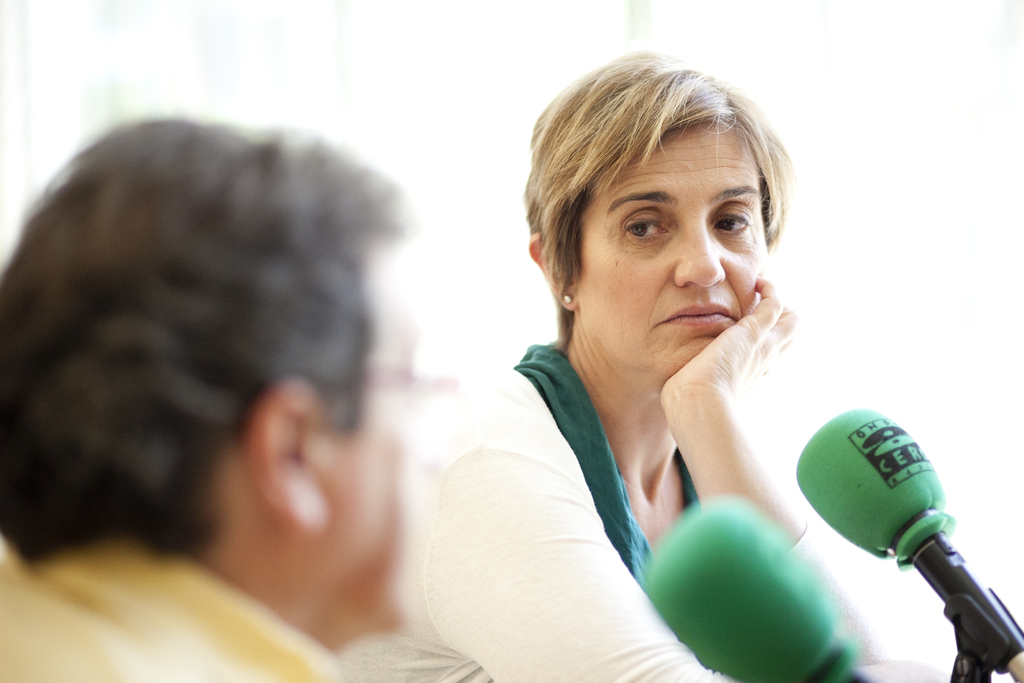Human_hand: (674, 286, 813, 447)
